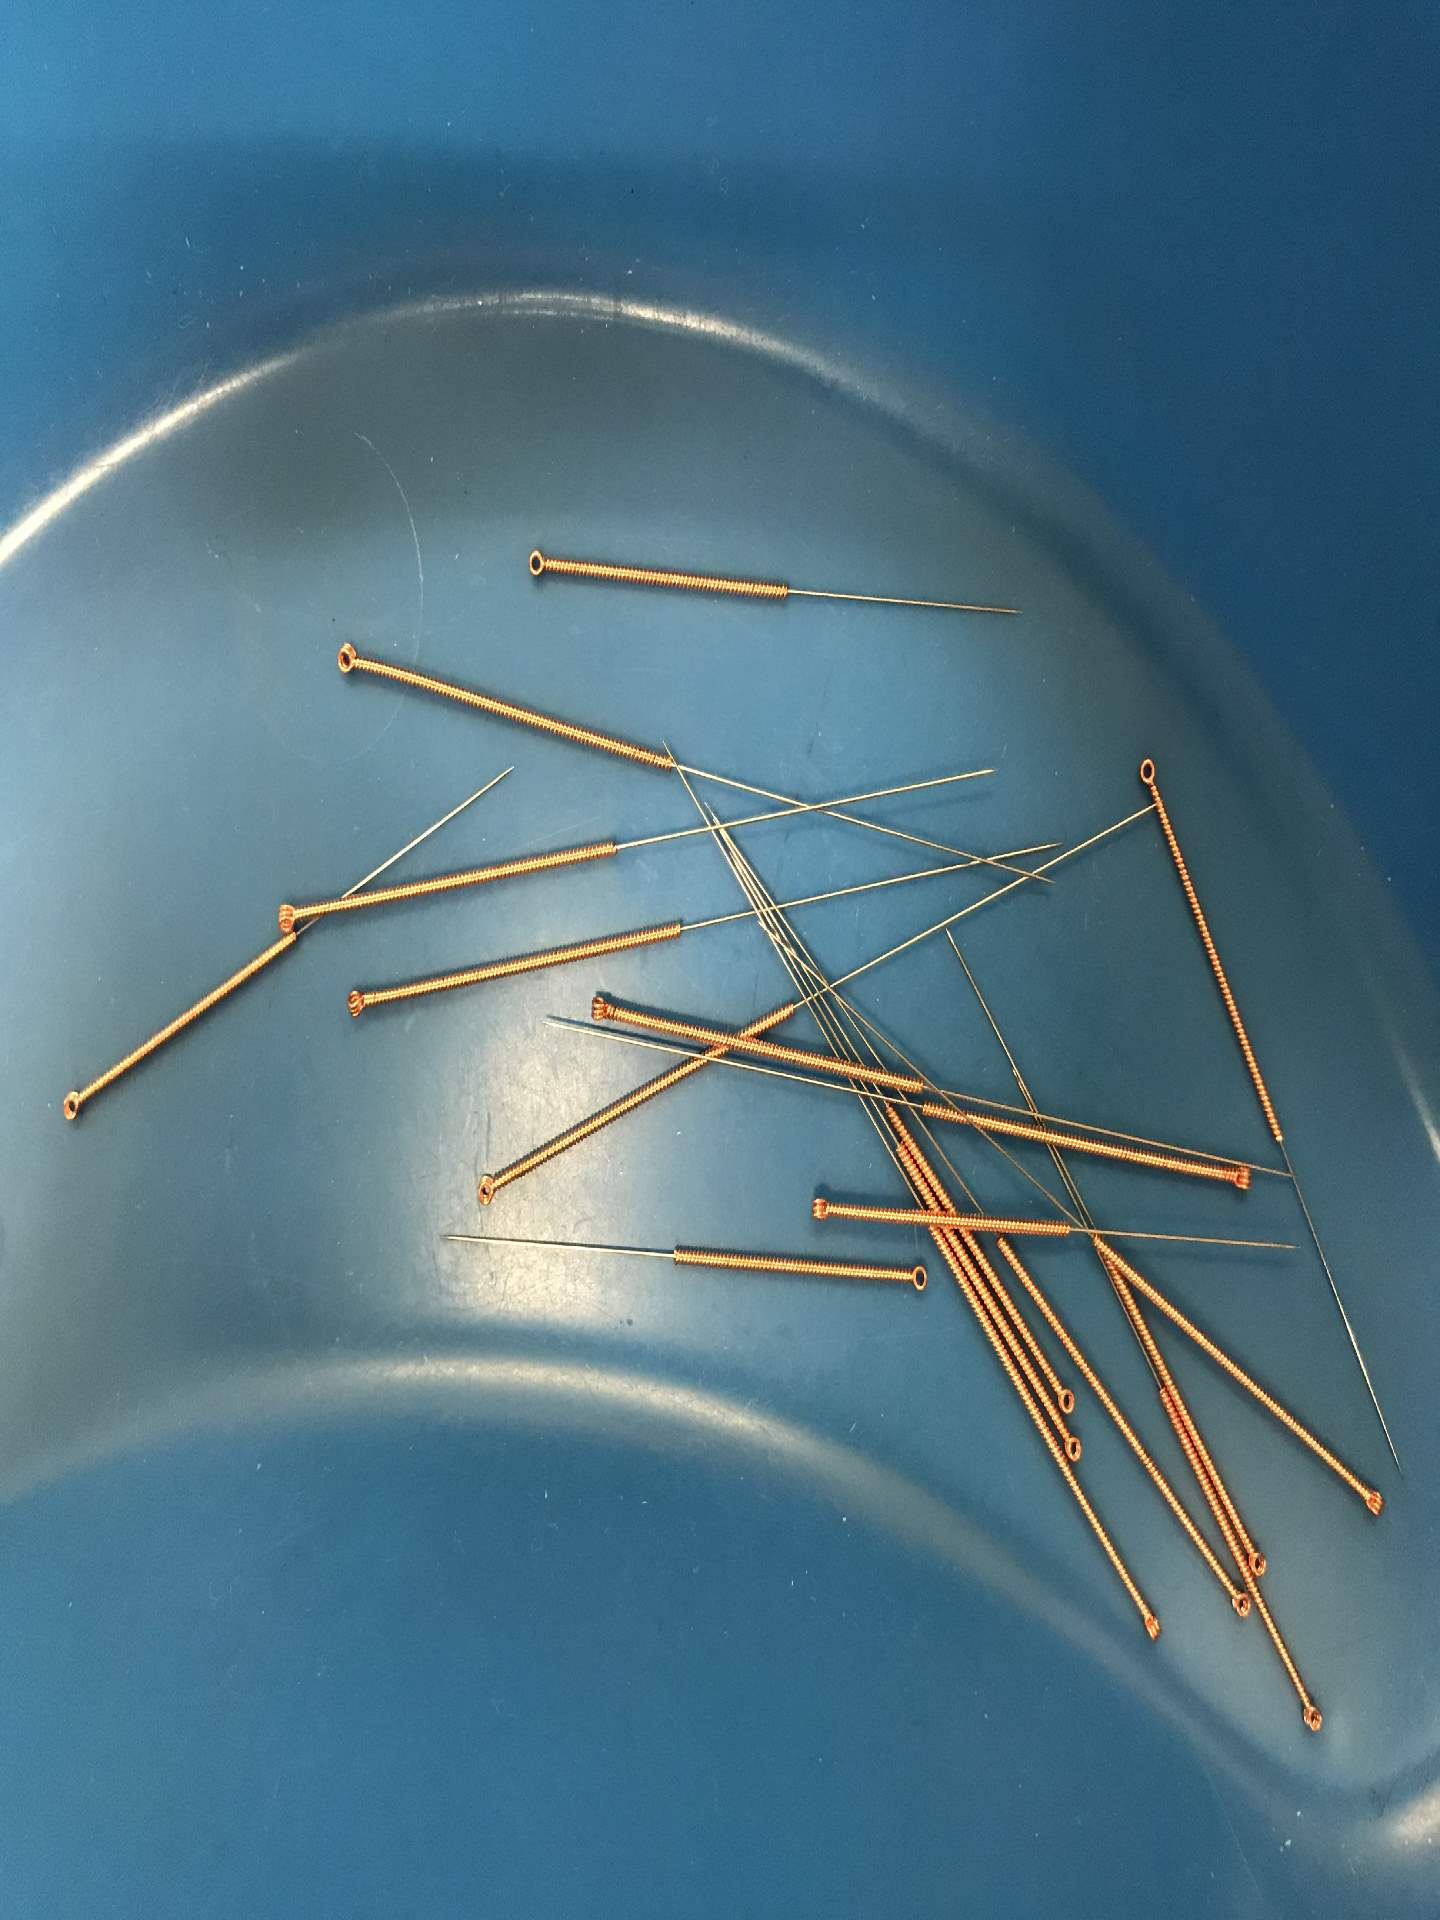needle: (321, 633, 375, 686), (48, 1078, 98, 1132), (514, 538, 560, 590), (1349, 1476, 1395, 1527), (799, 1185, 844, 1234), (1127, 748, 1171, 798), (1293, 1689, 1333, 1742), (333, 981, 378, 1027), (1133, 1599, 1172, 1651), (579, 984, 623, 1030), (467, 1164, 505, 1214), (266, 895, 312, 934), (898, 1253, 936, 1299), (1218, 1161, 1265, 1197), (1221, 1584, 1254, 1627), (1051, 1376, 1082, 1417), (1246, 1536, 1272, 1581), (1060, 1424, 1088, 1466)
